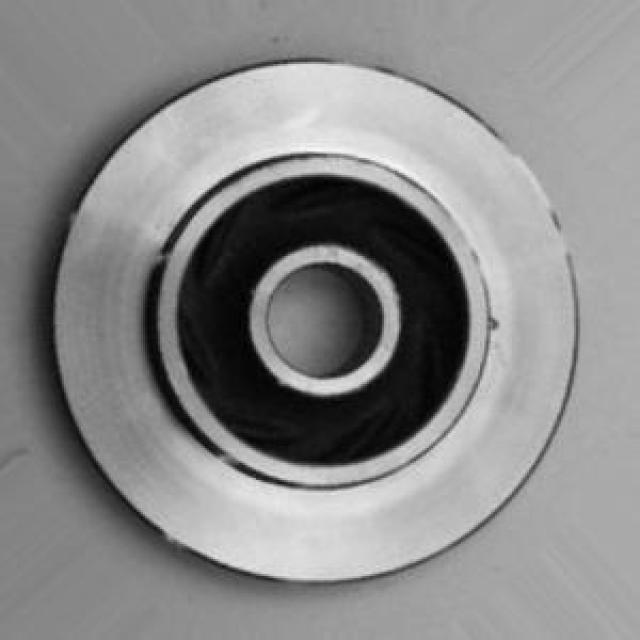Defect: (476, 308, 507, 337)
